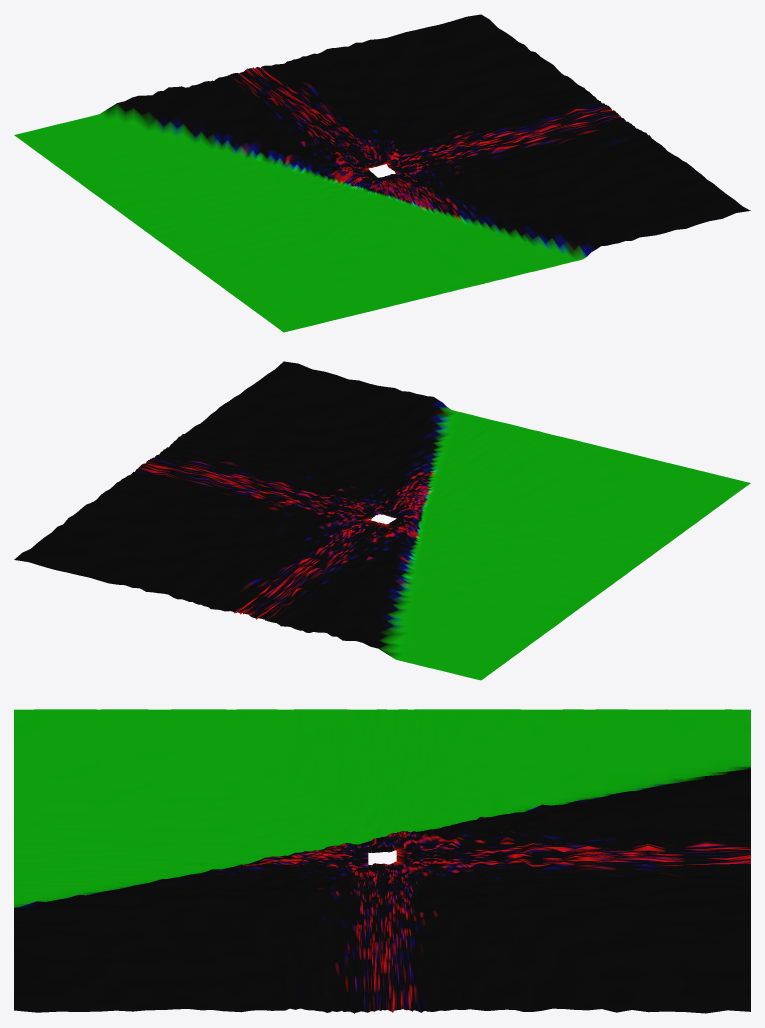
Rendered from SM_AsirMountains_Backdrop.fbx.
3 renders of one model, top to bottom at view 1: azimuth 30°, elevation 25°; view 2: azimuth 150°, elevation 25°; view 3: azimuth 270°, elevation 25°, orthographic. The views are drawn at different scales.
Visible parts, largest first — view 1: SM_AsirMountains_Backdrop; view 2: SM_AsirMountains_Backdrop; view 3: SM_AsirMountains_Backdrop.
Boxes of the visible parts, left/top/right/bottom form: SM_AsirMountains_Backdrop: left=14, top=14, right=750, bottom=332; SM_AsirMountains_Backdrop: left=14, top=361, right=750, bottom=680; SM_AsirMountains_Backdrop: left=14, top=709, right=750, bottom=1013.
Bounding box in the file's own units: 5040346 × 112079 × 5040346.
